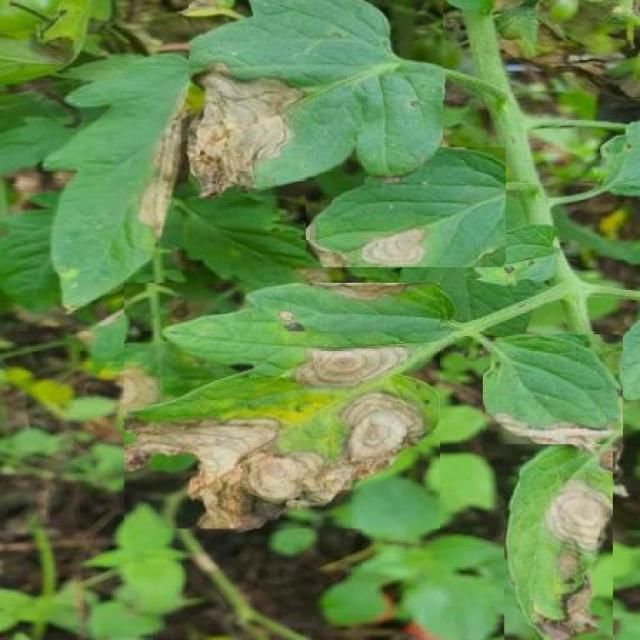Early Blight: (124, 283, 440, 528), (189, 0, 444, 196), (306, 147, 506, 267), (504, 444, 613, 640), (483, 334, 623, 452)
